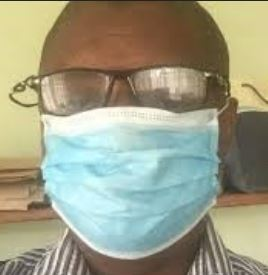with_facemask: (30, 107, 241, 254)
